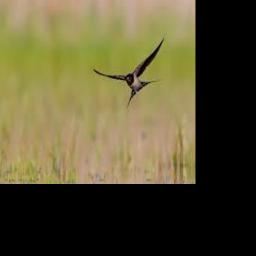Swallow: (92, 38, 164, 106)
